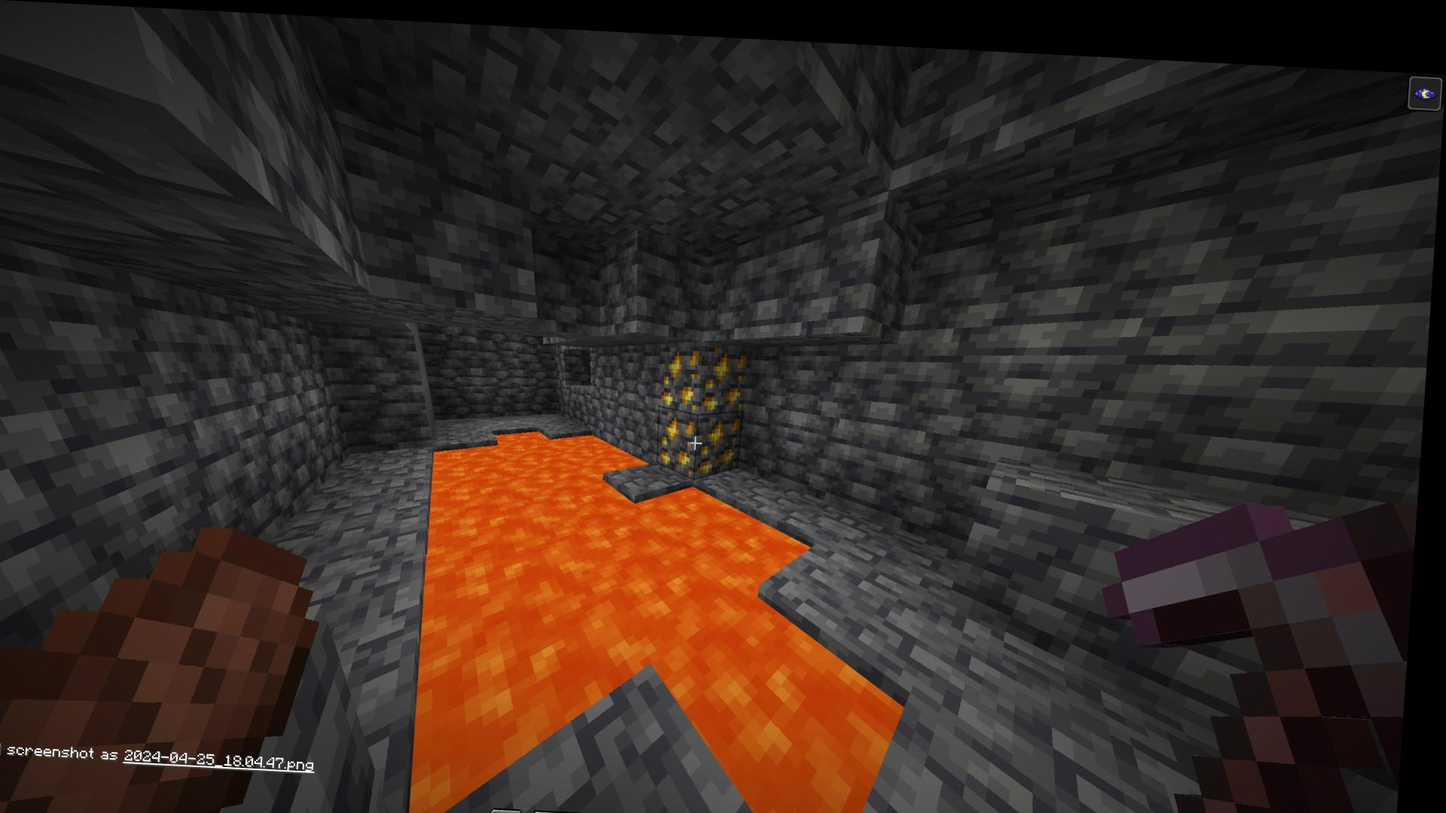gold ore: (661, 336, 755, 408), (658, 402, 750, 474)
